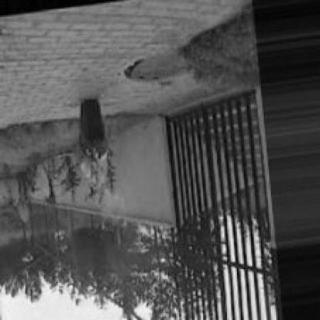Fire: (78, 133, 119, 229)
